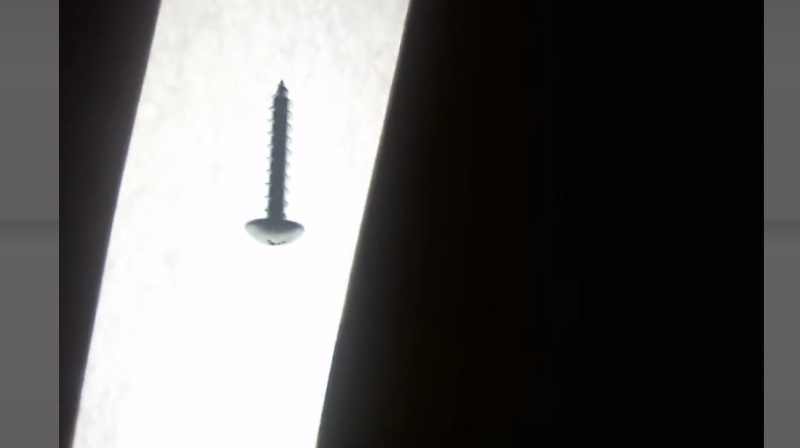S003: (241, 77, 307, 251)
